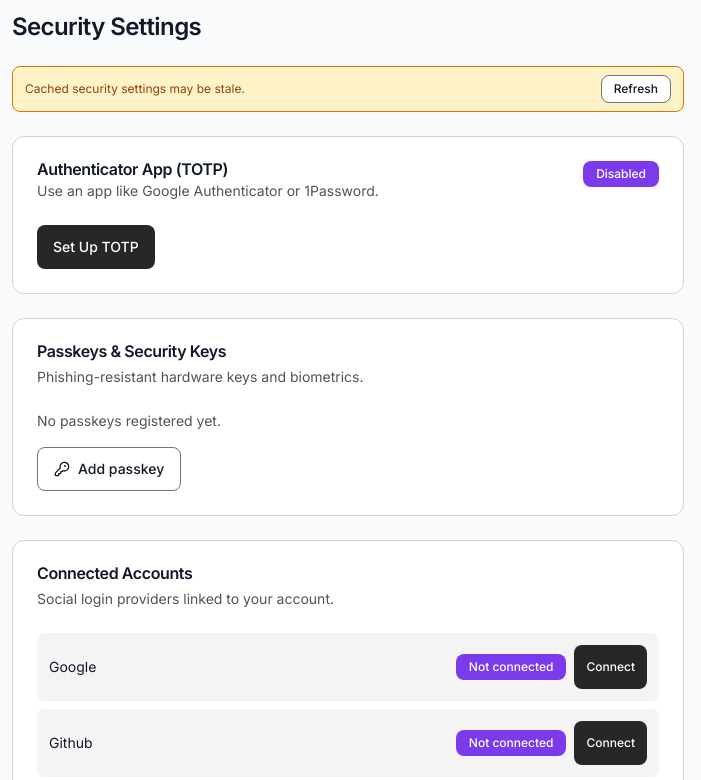
Scenario: SecurityPage › shows passkey-unavailable message when WebAuthn is unsupported
Expected: the heading "Security Settings" is shown, [12, 12, 201, 42]
Click the button "Add passkey" at (109, 469), box [37, 447, 181, 491]
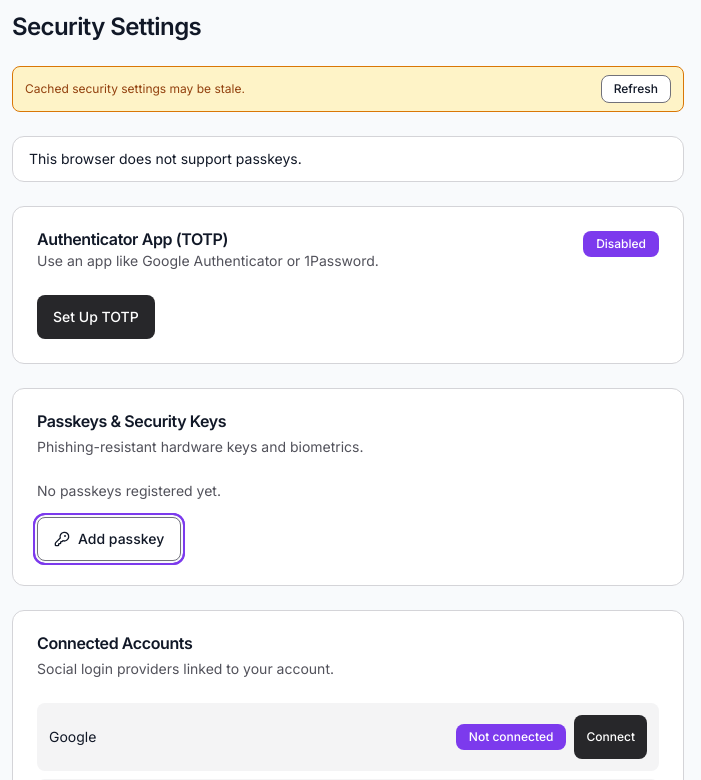
Expected: the text "This browser does not support passkeys." is shown, [29, 150, 302, 167]
